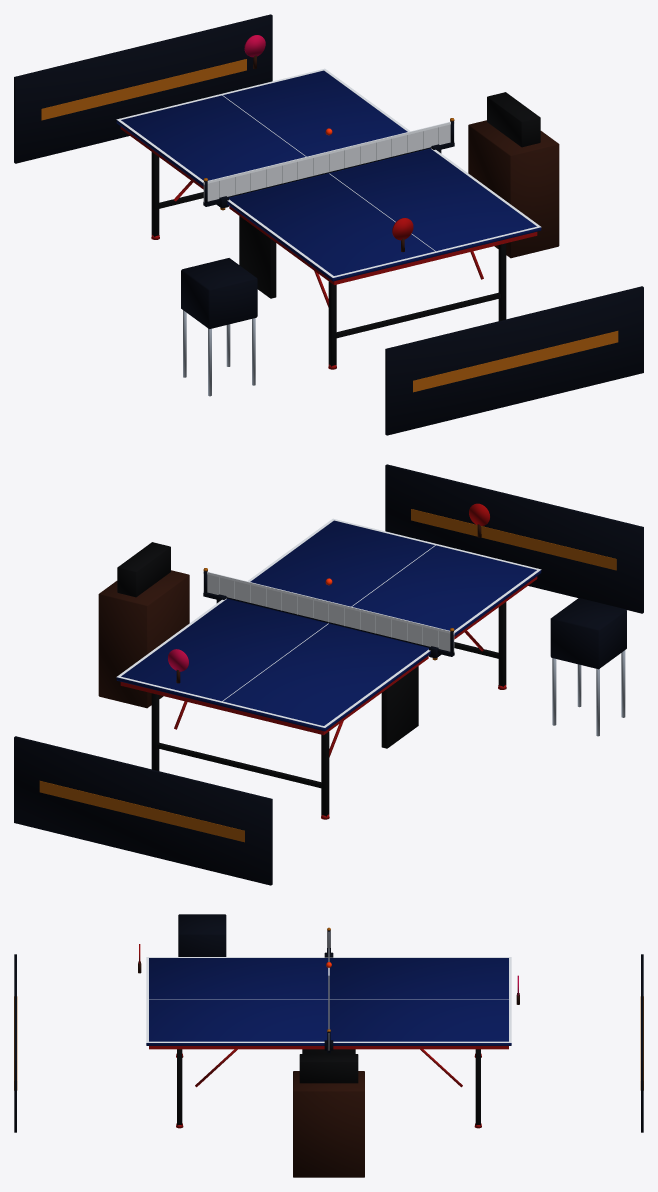
The model's file is cozy_tt_arena_showcase.obj.
3 views of the same model, one above another, from view 1: azimuth 30°, elevation 25°; view 2: azimuth 150°, elevation 25°; view 3: azimuth 270°, elevation 25° (orthographic). The views are drawn at different scales.
Parts seen in each view (by area): view 1: cozy_tt_arena_showcase_Mesh; view 2: cozy_tt_arena_showcase_Mesh; view 3: cozy_tt_arena_showcase_Mesh.
Part boxes in pixels (x1,y1,x2,y2): cozy_tt_arena_showcase_Mesh: [14, 14, 643, 435]; cozy_tt_arena_showcase_Mesh: [14, 464, 643, 885]; cozy_tt_arena_showcase_Mesh: [14, 914, 643, 1177].
Bounding box in the file's own units: 3.06 × 1.09 × 4.72.
